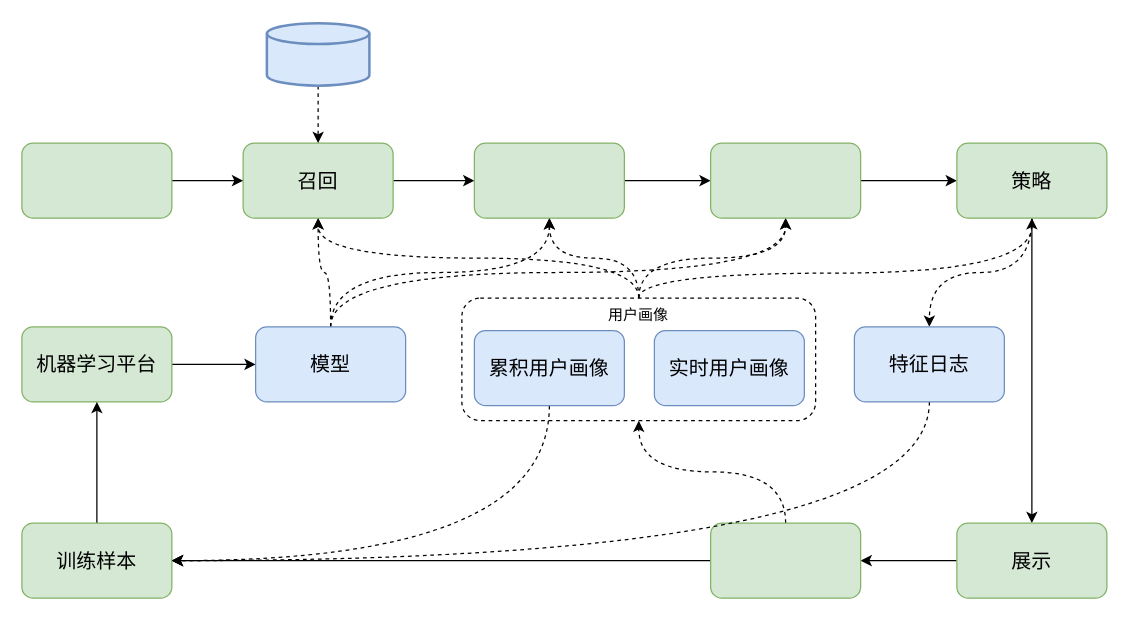
Image size: 1129x620. Some labels were removed from this diagram. The centre of each missing label's shape, as x and y in pixels:
"业务接入" belongs at point 96,180.
"物料库" belongs at point 317,53.
"粗排" belongs at point 548,180.
"精排" belongs at point 785,180.
"行为收集" belongs at point 785,560.
